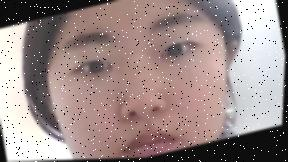eye: (89, 61, 103, 73), (169, 45, 183, 57)
iris: (75, 58, 113, 79), (160, 40, 197, 59)
